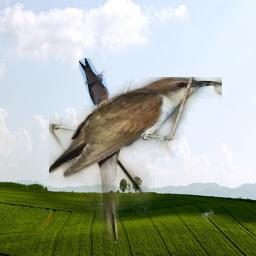Cuckoo: (49, 77, 222, 243)
Swallow: (79, 58, 111, 114)
